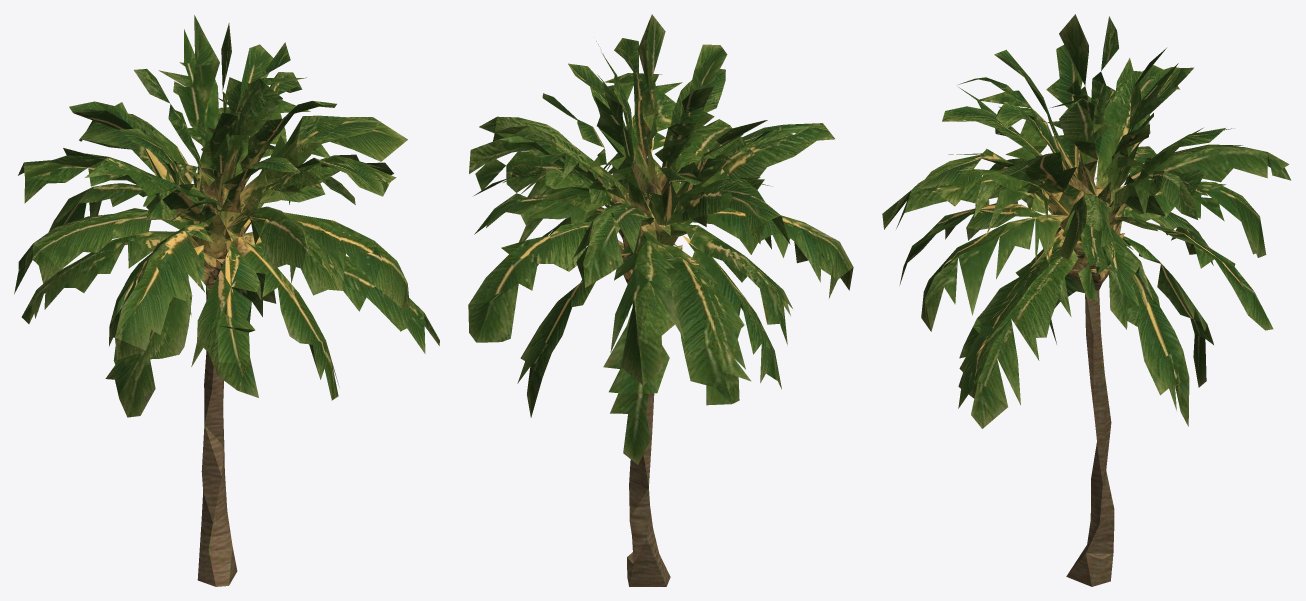
Rendered from palm.glb.
The picture shows the model from 3 angles, left to right: view 1: azimuth 30°, elevation 25°; view 2: azimuth 150°, elevation 25°; view 3: azimuth 270°, elevation 25°; orthographic projection.
Parts seen in each view (by area): view 1: output_unwrapped; view 2: output_unwrapped; view 3: output_unwrapped.
Part boxes in pixels (x1,y1,x2,y2): output_unwrapped: (14, 15, 439, 586); output_unwrapped: (468, 14, 853, 586); output_unwrapped: (882, 14, 1291, 586).
Bounding box in the file's own units: 1.24 × 1.89 × 1.24.
Materials: 1 (1 with a texture image).
